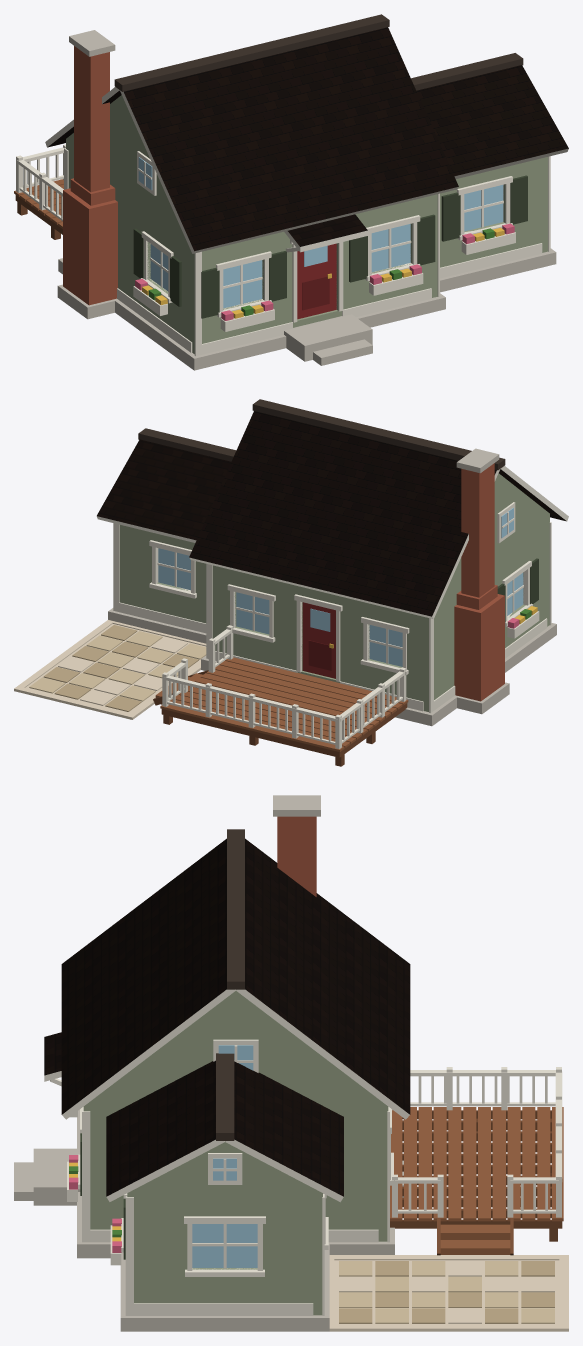
File: base-01-level4.glb
The picture shows the model from 3 angles, top to bottom: view 1: azimuth 30°, elevation 25°; view 2: azimuth 150°, elevation 25°; view 3: azimuth 270°, elevation 25°; orthographic projection. The views are drawn at different scales.
Visible parts, largest first — view 1: base_house_1_finished, piece_addition, piece_deck; view 2: base_house_1_finished, piece_addition, piece_deck, piece_patio; view 3: base_house_1_finished, piece_addition, piece_deck, piece_patio.
Boxes of the visible parts, bbox=[...] form: base_house_1_finished: bbox=[45, 14, 458, 370]; piece_addition: bbox=[411, 53, 568, 292]; piece_deck: bbox=[14, 144, 65, 239]; base_house_1_finished: bbox=[189, 399, 568, 726]; piece_addition: bbox=[96, 428, 236, 643]; piece_deck: bbox=[153, 625, 408, 766]; piece_patio: bbox=[14, 620, 206, 719]; base_house_1_finished: bbox=[14, 795, 410, 1258]; piece_addition: bbox=[106, 1053, 343, 1331]; piece_deck: bbox=[390, 1067, 563, 1255]; piece_patio: bbox=[329, 1255, 568, 1331].
Bounding box in the file's own units: 12.89 × 7.83 × 12.75.
Materials: 20 (1 with a texture image).
